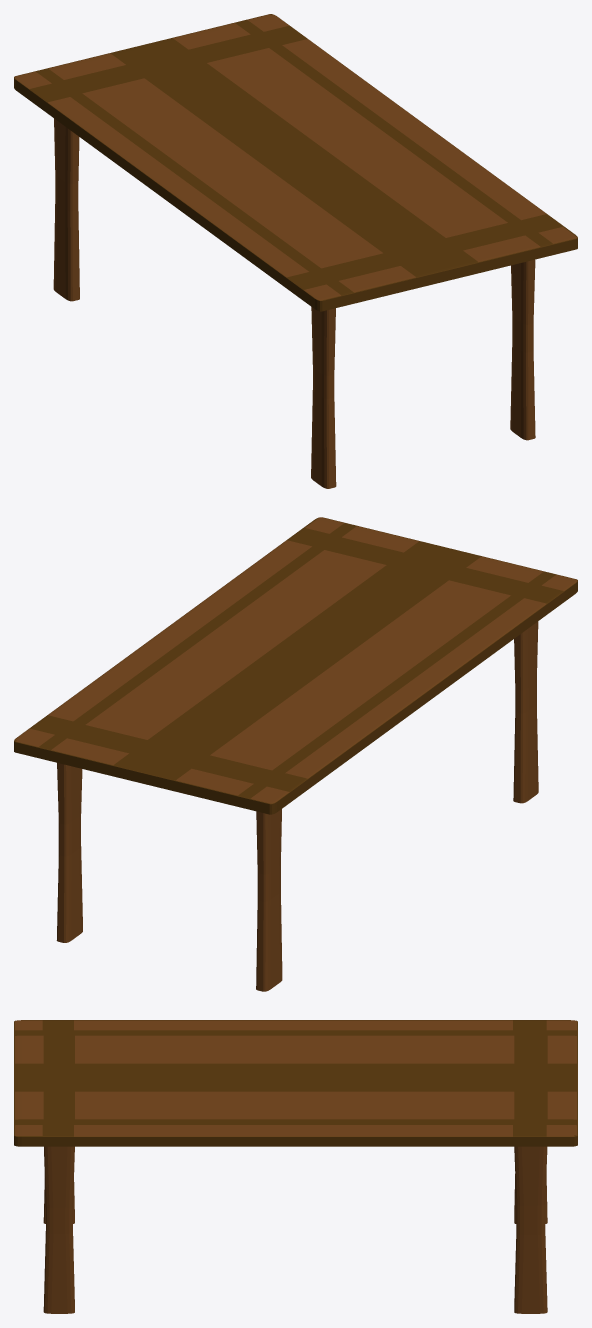
Rendered from SM_Table.fbx.
The picture shows the model from 3 angles, top to bottom: view 1: azimuth 30°, elevation 25°; view 2: azimuth 150°, elevation 25°; view 3: azimuth 270°, elevation 25°; orthographic projection. The views are drawn at different scales.
Parts seen in each view (by area): view 1: SM_Mesa; view 2: SM_Mesa; view 3: SM_Mesa.
Boxes of the visible parts, <box> form: SM_Mesa: <box>14,14,577,488</box>; SM_Mesa: <box>14,517,577,991</box>; SM_Mesa: <box>14,1020,577,1313</box>.
Bounding box in the file's own units: 187 × 141 × 382.
